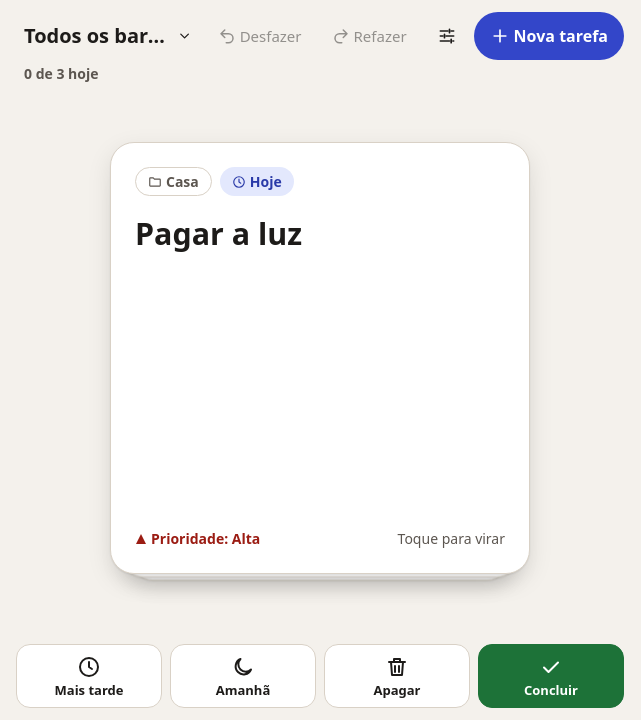
Test case: add one task to the calendar › exports only the flipped card, as a dated text/calendar file, and keeps focus on the button
The image size is (641, 720).
Click the button with aria-label "Pagar a luz. Hoje. Prioridade alta. Baralho Casa." at (320, 358), box [110,142,530,574]
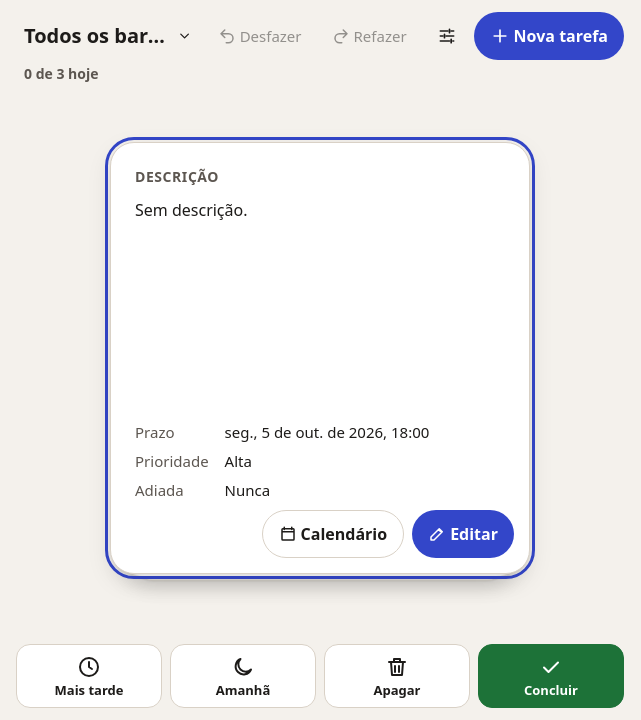
Click the button with aria-label "Adicionar “Pagar a luz” ao calendário" at (333, 534), box [262,510,404,558]
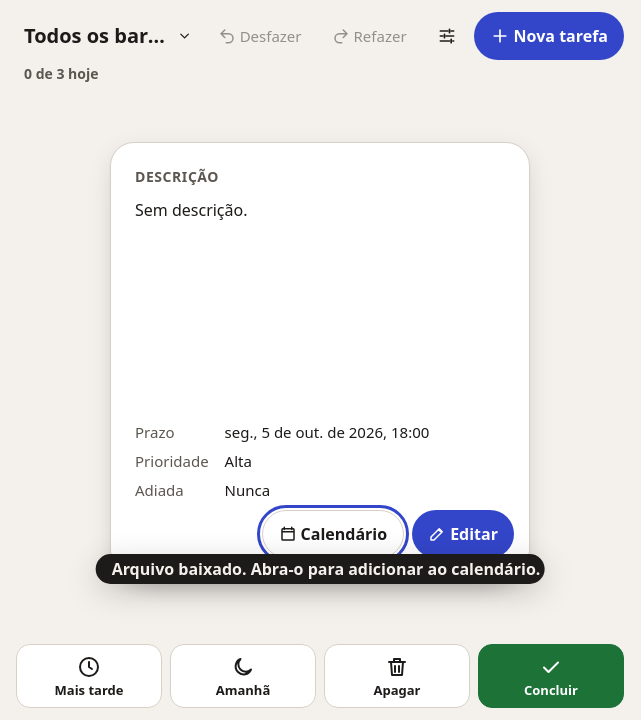
Expected: the element with test id "undo-toast" reads "Arquivo baixado. Abra-o para adicionar ao calendário.", [112,558,540,580]
